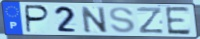2: (53, 5, 80, 34)
E: (164, 6, 193, 36)
N: (79, 6, 109, 34)
P: (25, 4, 51, 34)
S: (108, 6, 137, 34)
Z: (136, 6, 166, 35)
